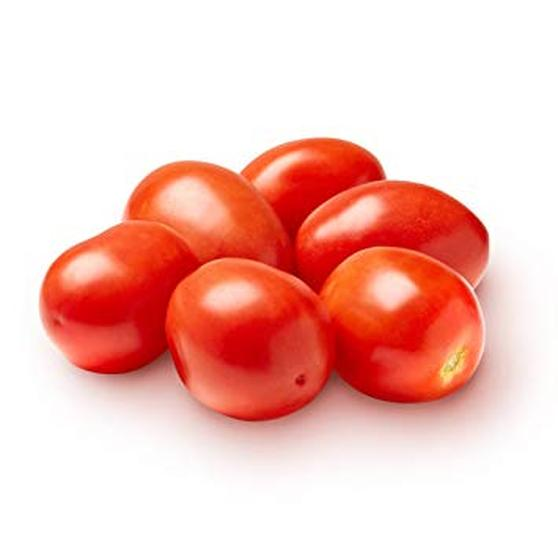tomato: (298, 233, 492, 412), (171, 247, 330, 426), (44, 206, 202, 386), (135, 154, 293, 278)
